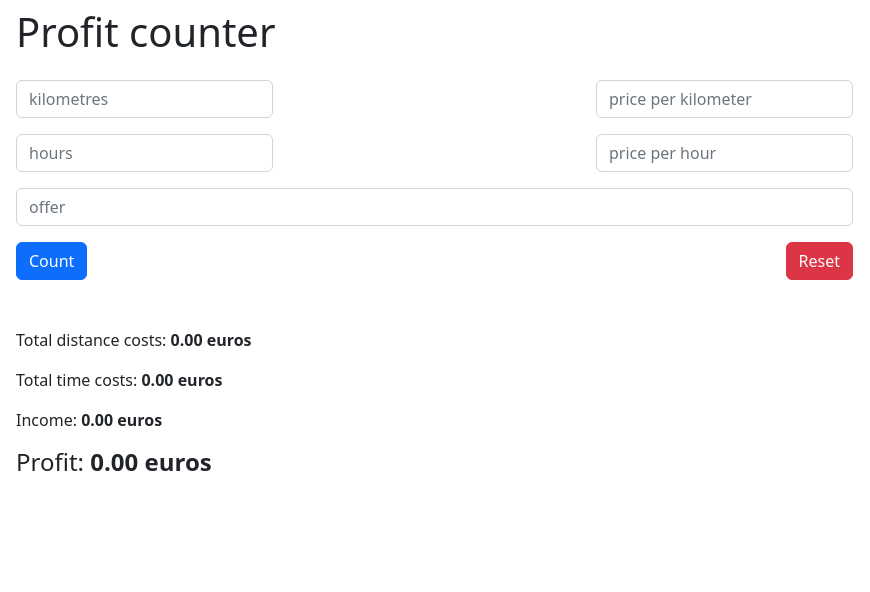
Test case: App tests › Required validations works on inputs if you click count button immediately
Step 1. Click the button with id "btn-count" → (52, 261), box [16,242,87,280]
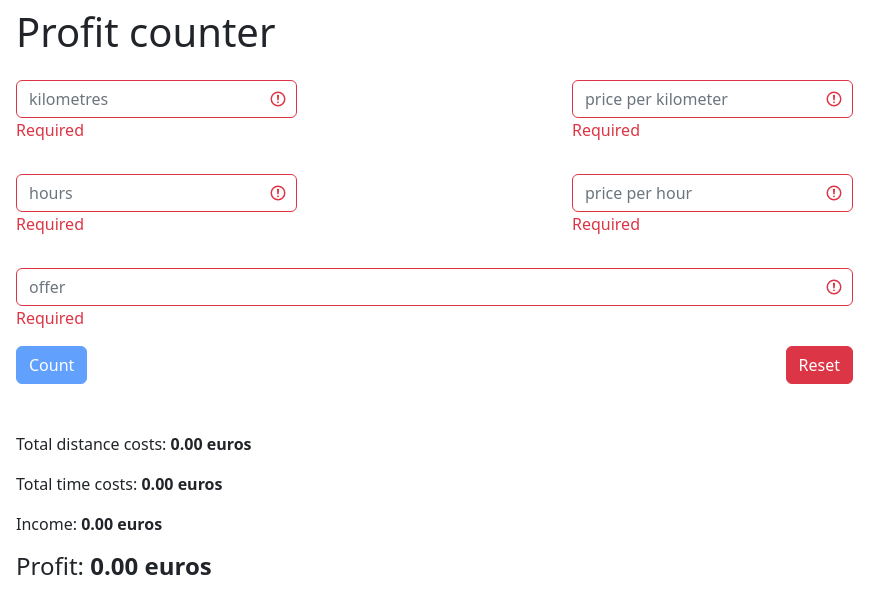
Check: the text with id "km-error" is shown, box [16,119,84,141]
Check: the text with id "kmPrice-error" is shown, box [572,119,640,141]
Check: the text with id "hours-error" is shown, box [16,213,84,235]
